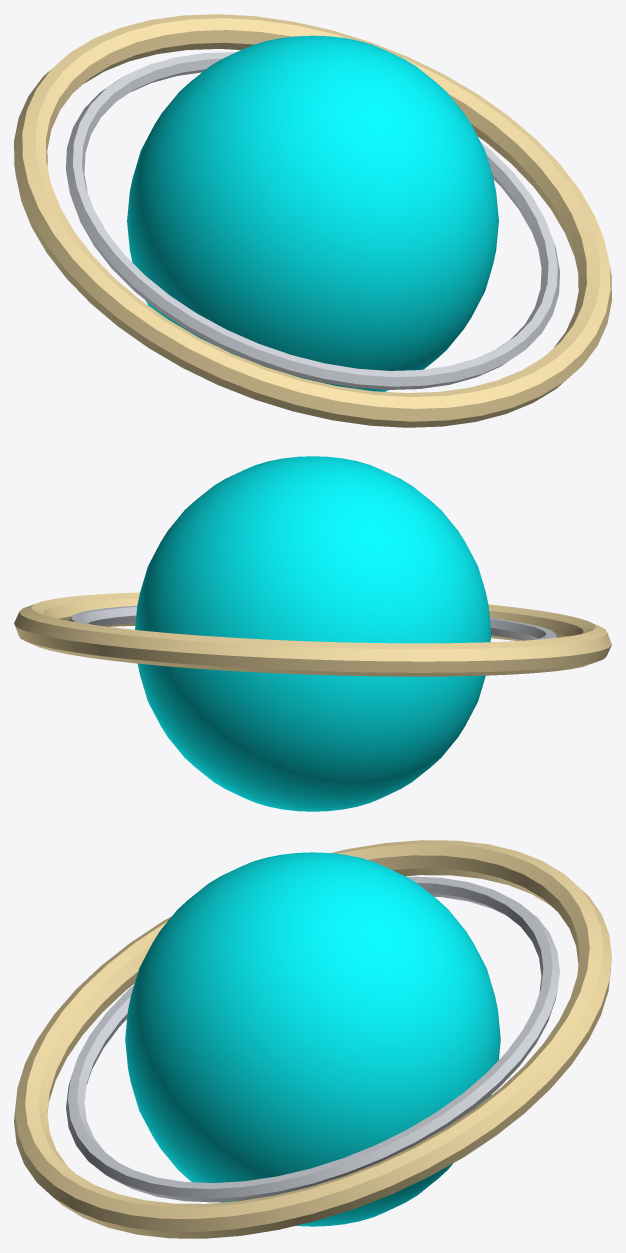
The model's file is ringed_planet.glb.
3 views of the same model, one above another, from view 1: azimuth 30°, elevation 25°; view 2: azimuth 150°, elevation 25°; view 3: azimuth 270°, elevation 25° (orthographic). The views are drawn at different scales.
Visible parts, largest first — view 1: Sphere; view 2: Sphere; view 3: Sphere.
Part boxes in pixels (x1,y1,x2,y2): Sphere: (14, 14, 611, 427); Sphere: (14, 456, 611, 811); Sphere: (14, 840, 611, 1238).
Bounding box in the file's own units: 1.59 × 0.96 × 1.53.
